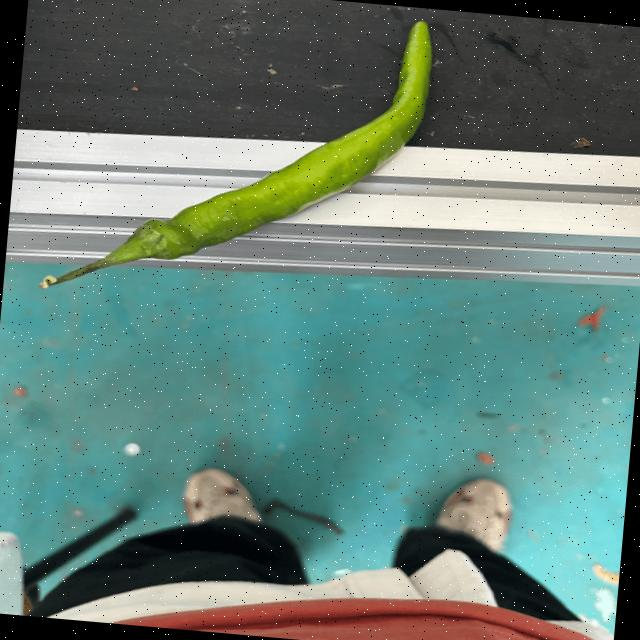chili: (121, 18, 433, 262)
